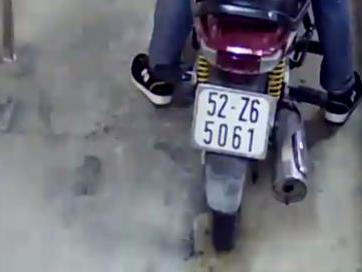num_plate: (190, 83, 276, 160)
